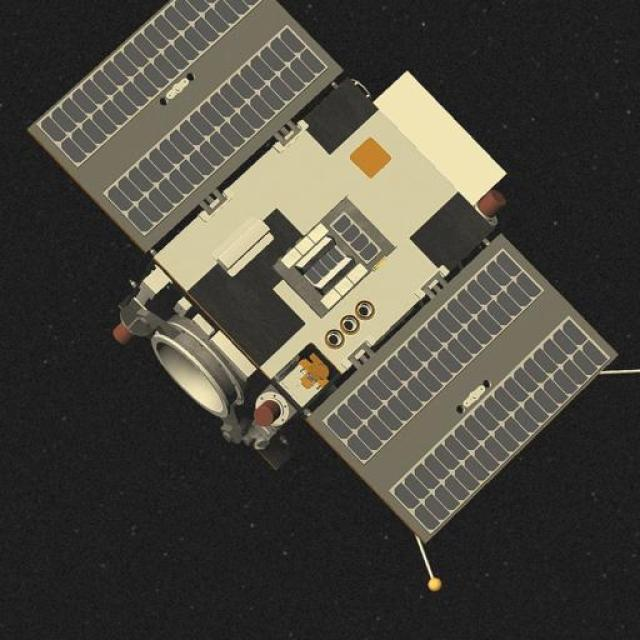proba_2: (28, 20, 610, 548)
